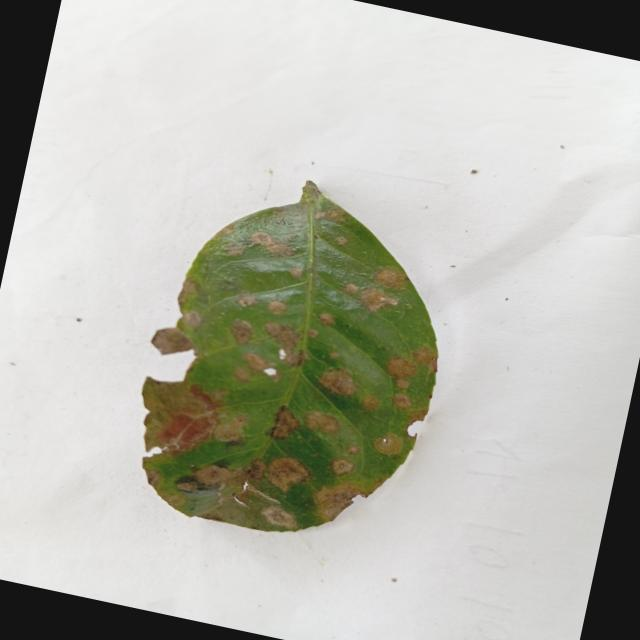leaf_spot: (142, 181, 438, 531)
